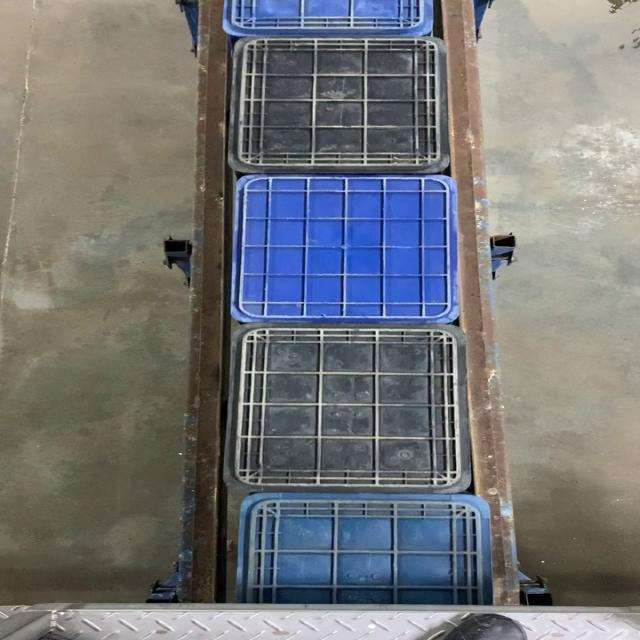Box: (226, 322, 476, 493), (226, 173, 458, 323), (223, 36, 451, 172)
